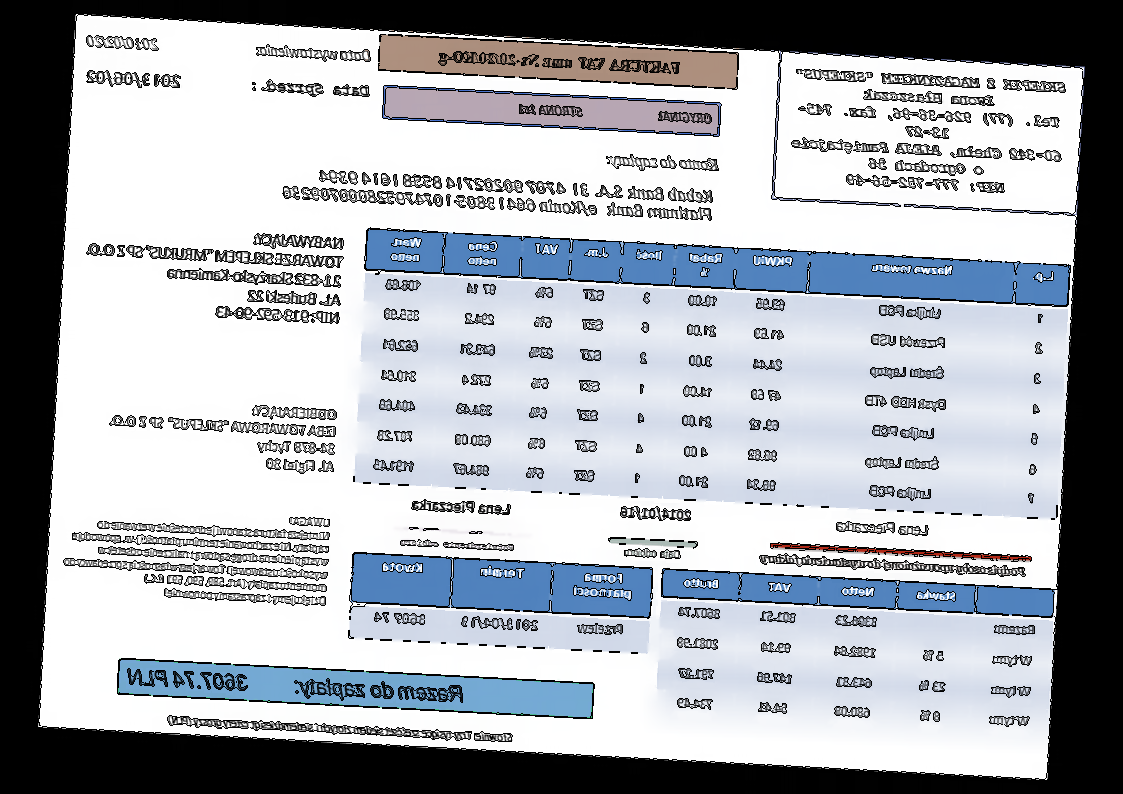Table: (352, 226, 1073, 520), (654, 567, 1057, 742), (346, 552, 654, 655)
TextBox: (787, 62, 1069, 199), (62, 502, 334, 610), (80, 222, 347, 329), (279, 164, 715, 224), (106, 394, 340, 476), (124, 665, 469, 707), (168, 711, 515, 746), (436, 45, 683, 80), (757, 550, 1028, 581), (515, 100, 715, 127), (604, 150, 721, 176), (250, 76, 370, 101), (254, 41, 373, 64), (411, 495, 514, 518), (85, 67, 183, 90), (400, 535, 516, 553), (834, 517, 931, 538), (85, 32, 161, 52), (618, 504, 694, 524), (622, 544, 682, 562)
